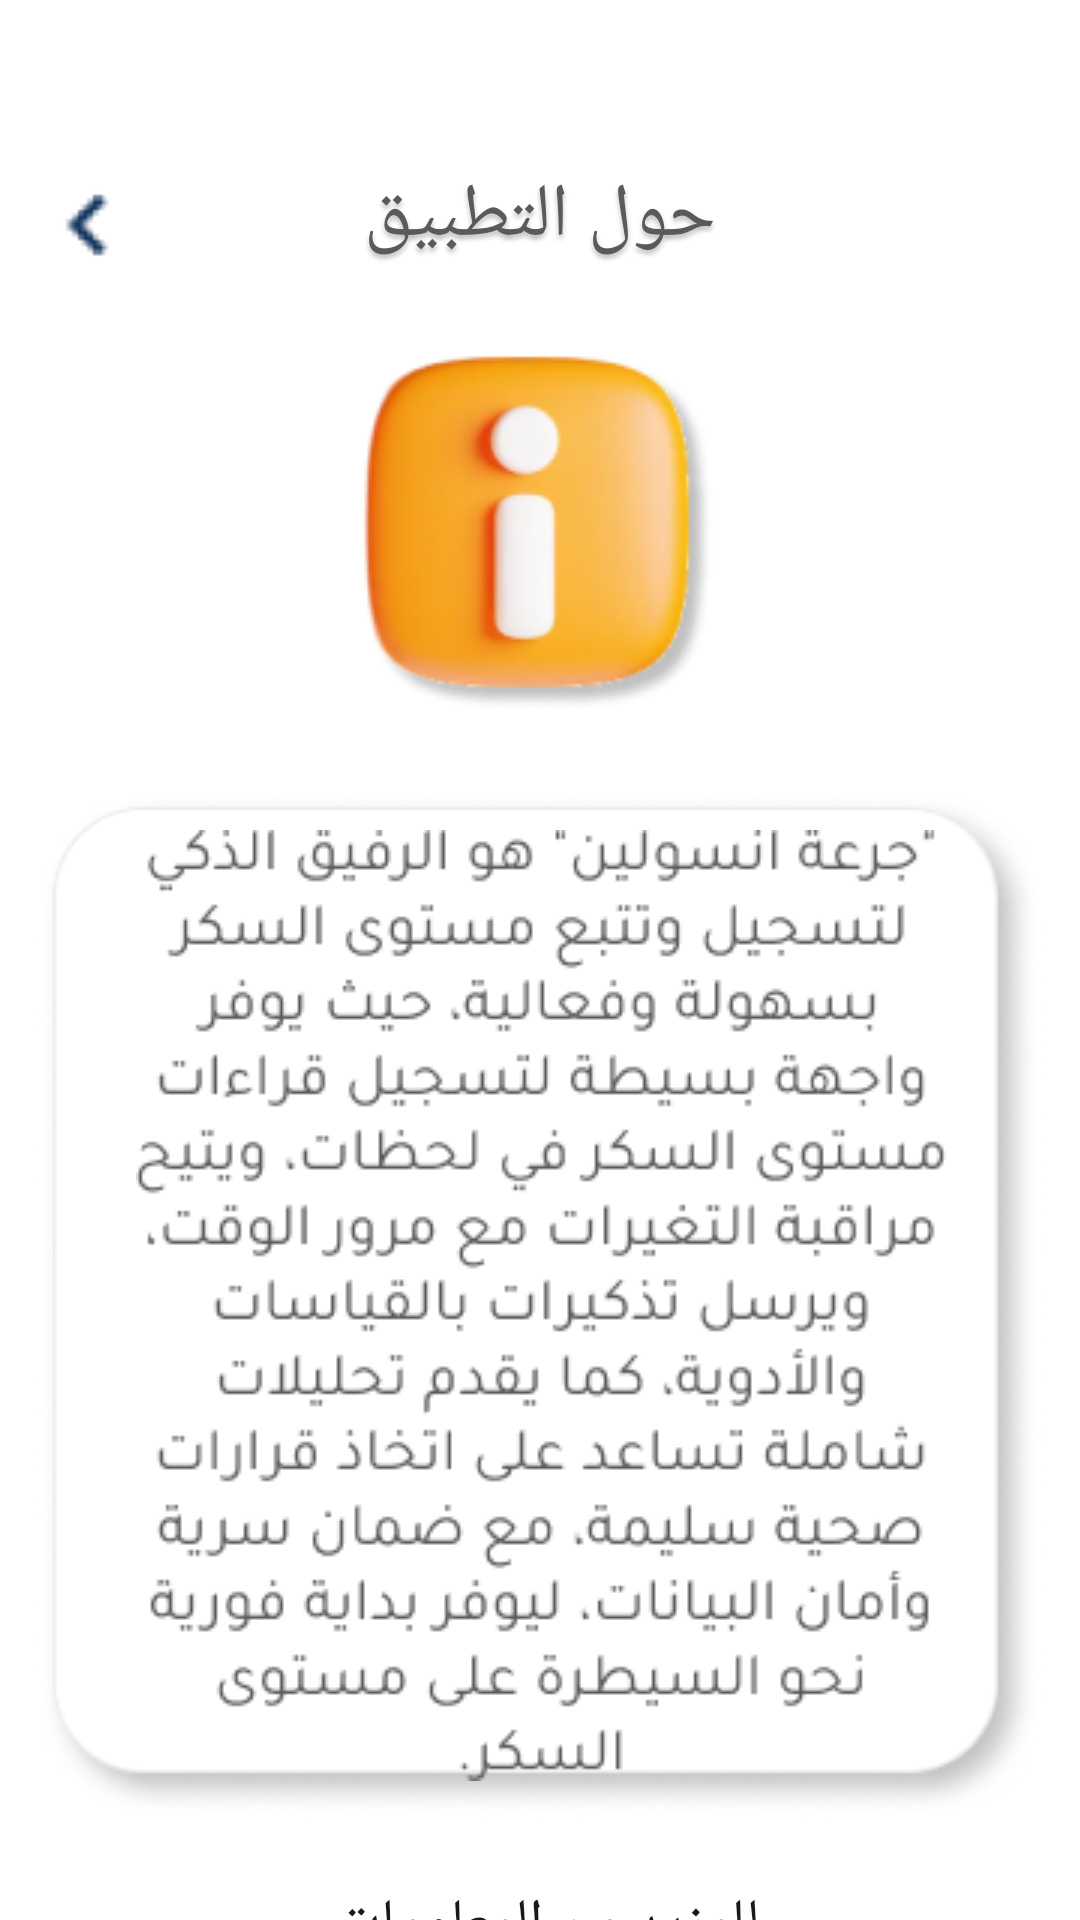

Locate icon controls on the screen. Image size 1080px×1920px, boxes as [x1, y1, x2, y2].
back: [66, 194, 108, 256]
